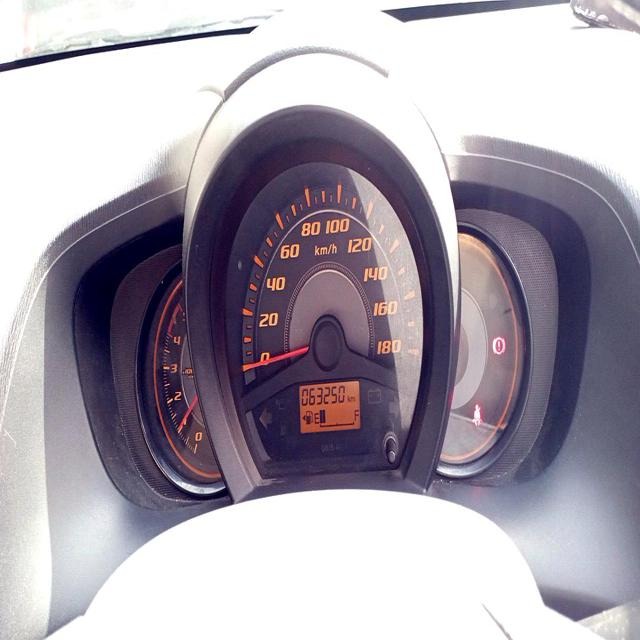odometer: (299, 382, 349, 411)
